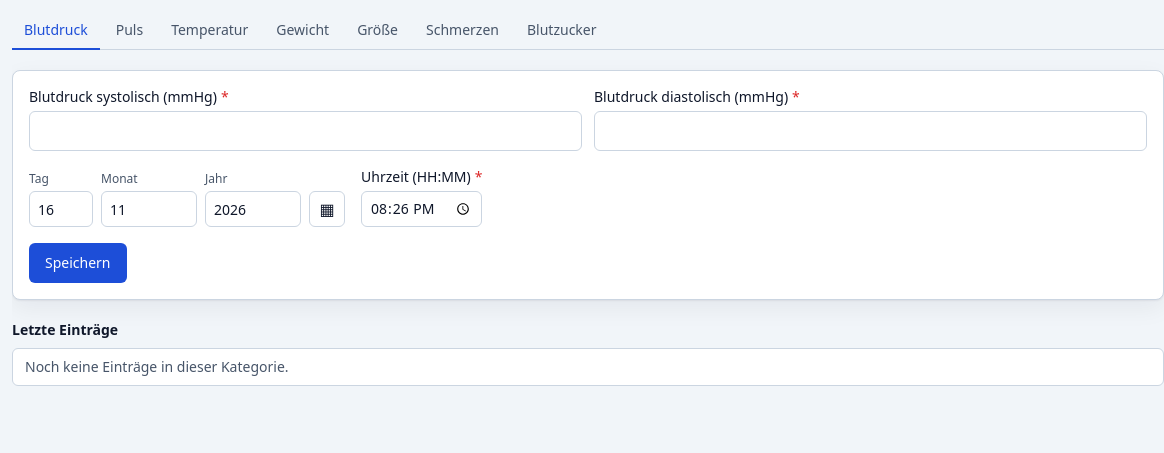
Scenario: VitalwertePanel › shows a server-confirmed entry, clears the values and resets the defaults
Click the tab "Puls" at (129, 31), box top-left (104, 12), bottom-right (155, 50)
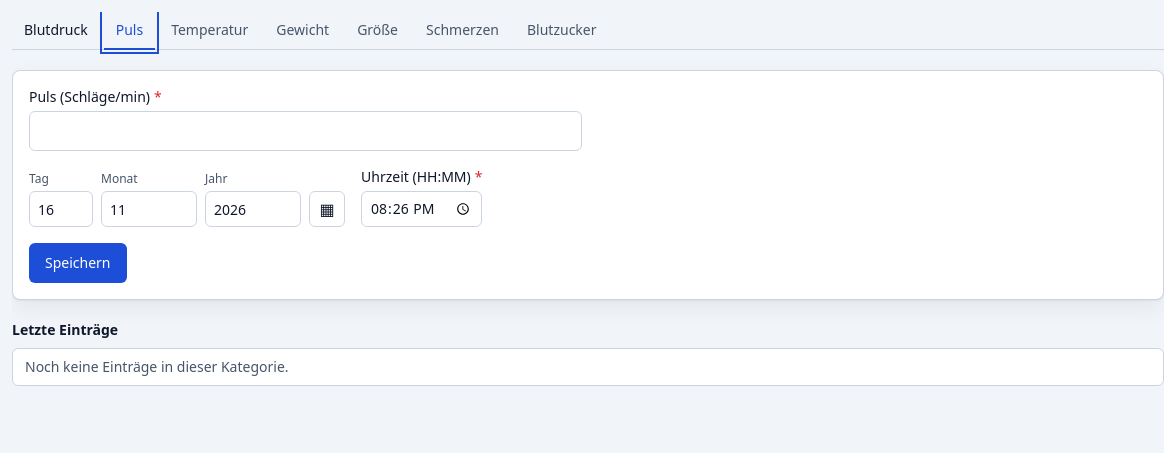
Type "82" into the field with id "entry-pulse" at (306, 131), box top-left (29, 111), bottom-right (582, 151)
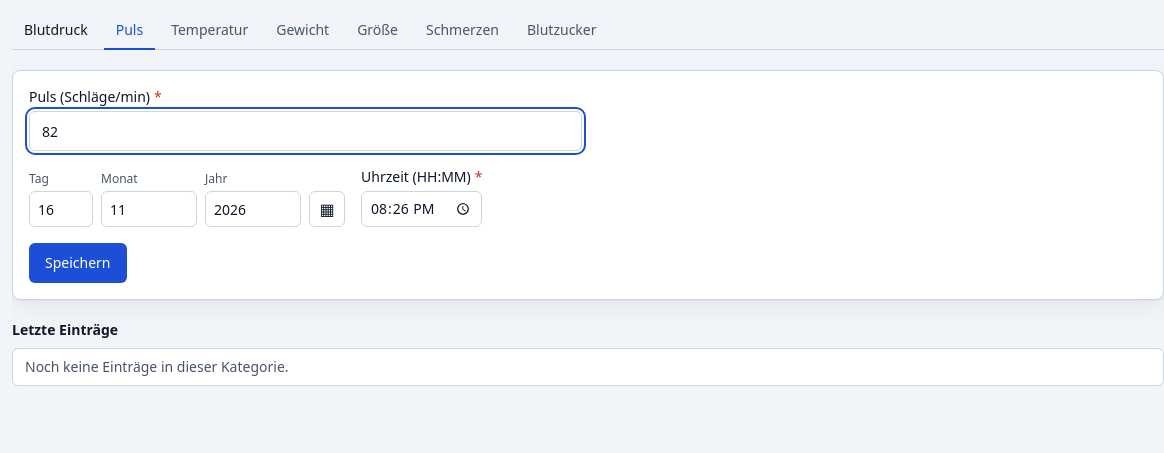
Click the button "Speichern" at (78, 263), box top-left (29, 243), bottom-right (126, 283)
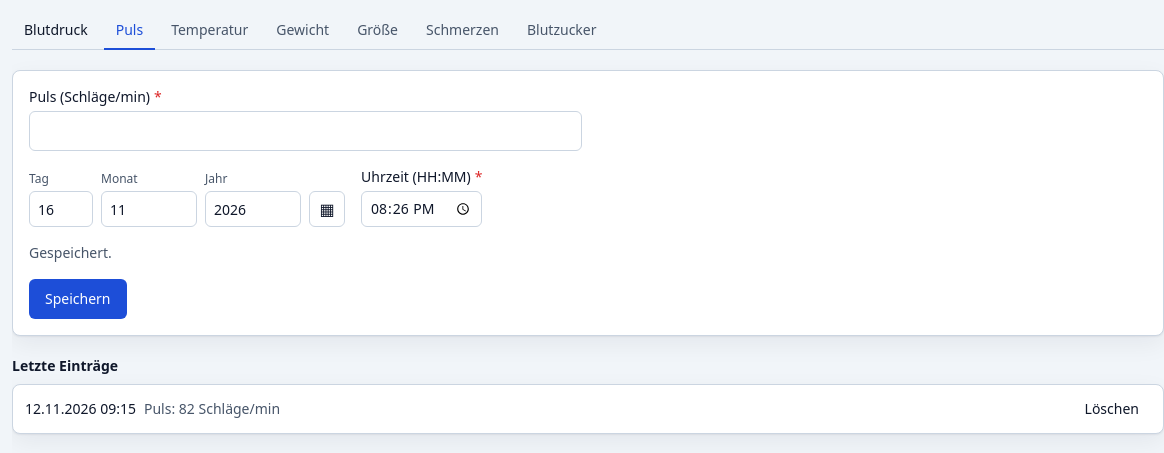
Expected: the text "Gespeichert." is shown, top-left (29, 243), bottom-right (112, 262)
Expected: the text "Puls: 82 Schläge/min" is shown, top-left (144, 399), bottom-right (280, 418)
Expected: the field with id "entry-pulse" is empty, top-left (29, 111), bottom-right (582, 151)
